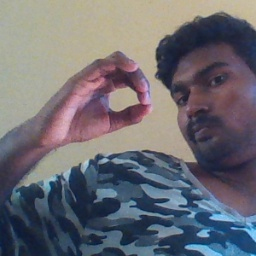O: (42, 47, 154, 142)
